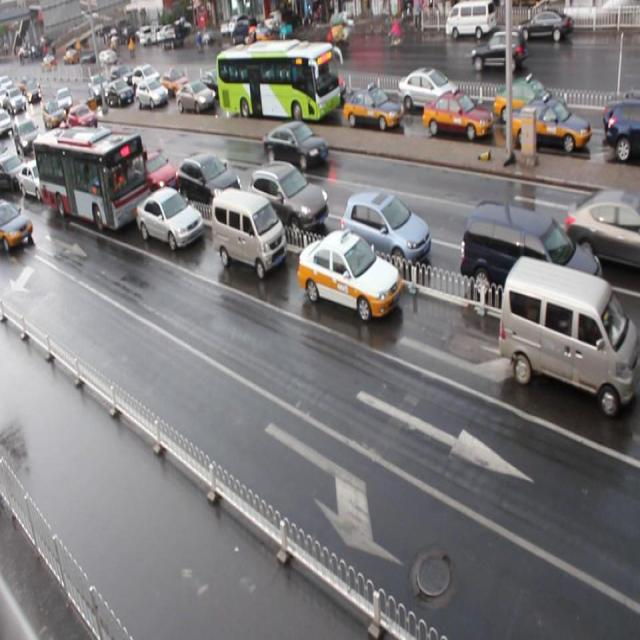car: (298, 228, 402, 324), (342, 190, 432, 274), (562, 186, 640, 276), (249, 160, 329, 233), (512, 98, 591, 156), (137, 186, 204, 250), (491, 73, 568, 128), (178, 151, 244, 210), (262, 120, 328, 172), (424, 92, 494, 139), (393, 66, 459, 114), (344, 84, 404, 133), (135, 146, 180, 194), (606, 98, 640, 159), (1, 198, 34, 250), (602, 92, 640, 137), (20, 157, 57, 201), (303, 66, 347, 102), (85, 134, 123, 172), (176, 82, 217, 114), (1, 152, 29, 194), (31, 129, 60, 168), (69, 101, 98, 136), (198, 69, 230, 100), (136, 78, 168, 109), (130, 62, 161, 93), (14, 120, 40, 155), (160, 68, 190, 96), (108, 78, 134, 106)
truck: (498, 251, 640, 414), (463, 197, 604, 327), (212, 186, 288, 276)
van: (35, 125, 154, 234), (216, 44, 340, 122)
